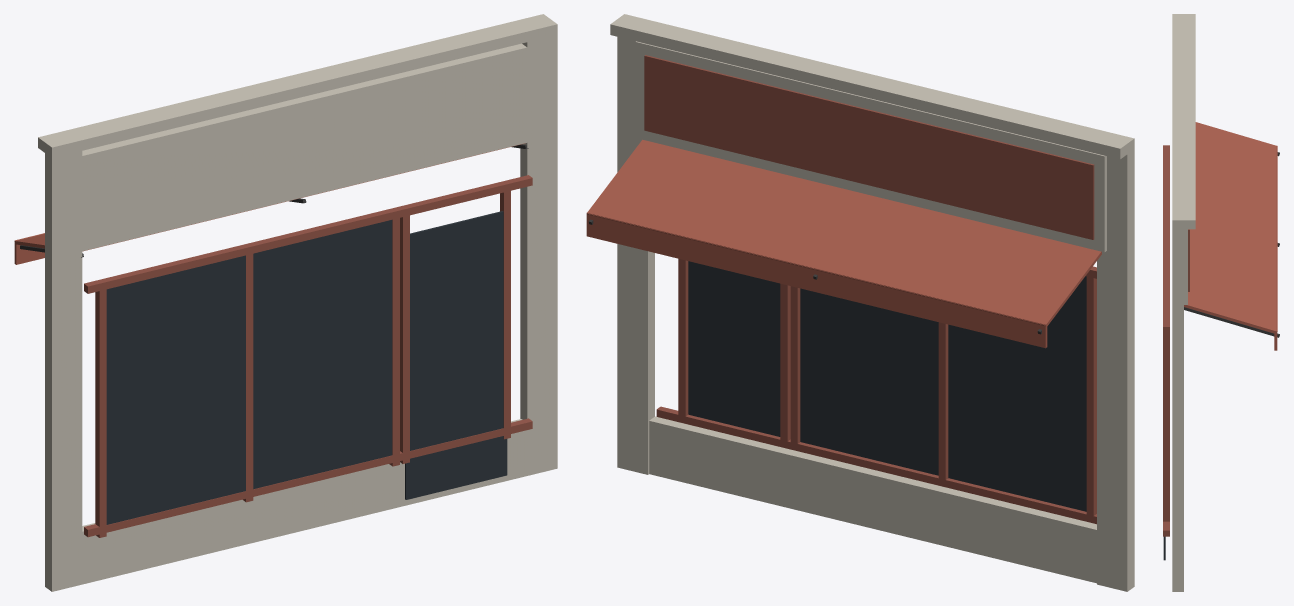
File: sh_shop.glb
The picture shows the model from 3 angles, left to right: view 1: azimuth 30°, elevation 25°; view 2: azimuth 150°, elevation 25°; view 3: azimuth 270°, elevation 25°; orthographic projection. The views are drawn at different scales.
Visible parts, largest first — view 1: sh_shop; view 2: sh_shop; view 3: sh_shop.
Part boxes in pixels (bbox=[...]): sh_shop: bbox=[14, 14, 557, 591]; sh_shop: bbox=[586, 14, 1134, 591]; sh_shop: bbox=[1163, 14, 1279, 591].
Bounding box in the file's own units: 5 × 4.2 × 1.2.
